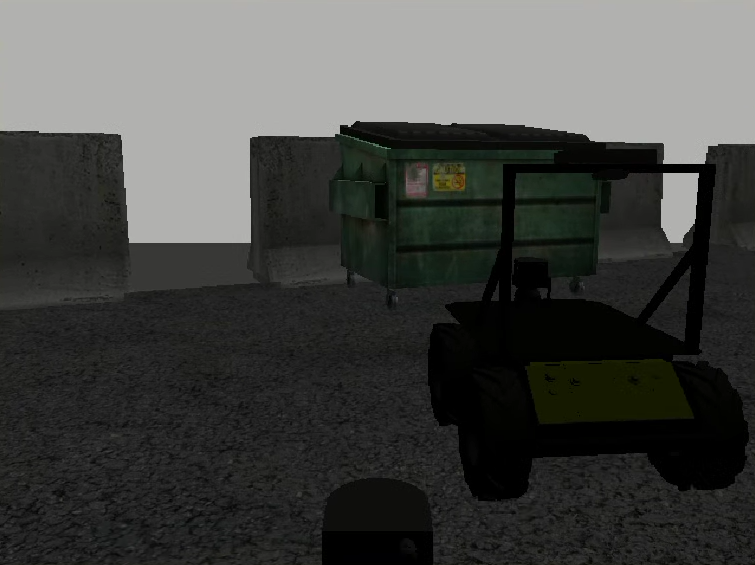husky: (428, 298, 750, 500)
